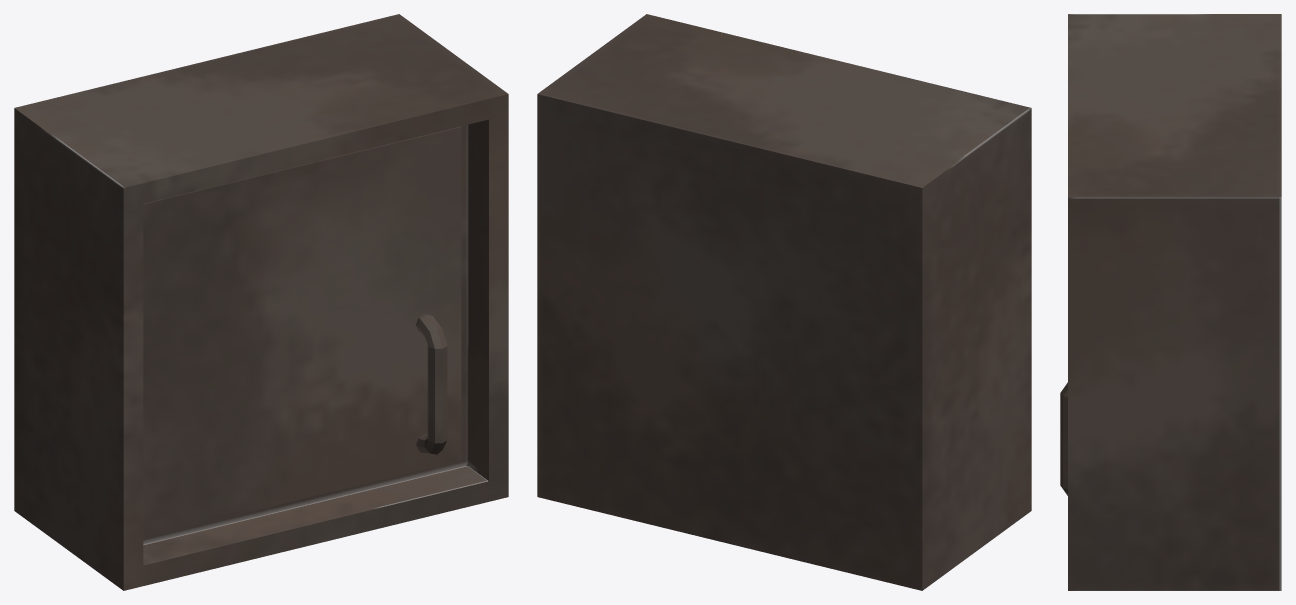
File: Contador1.fbx
3 renders of one model, left to right at view 1: azimuth 30°, elevation 25°; view 2: azimuth 150°, elevation 25°; view 3: azimuth 270°, elevation 25°, orthographic. The views are drawn at different scales.
Parts seen in each view (by area): view 1: Contador 01; view 2: Contador 01; view 3: Contador 01.
Boxes of the visible parts, x1,y1,x2,y2 form: Contador 01: [14, 14, 508, 590]; Contador 01: [537, 14, 1031, 590]; Contador 01: [1060, 14, 1281, 590].
Size of the model in its own units: 158 by 158 by 80.52.
